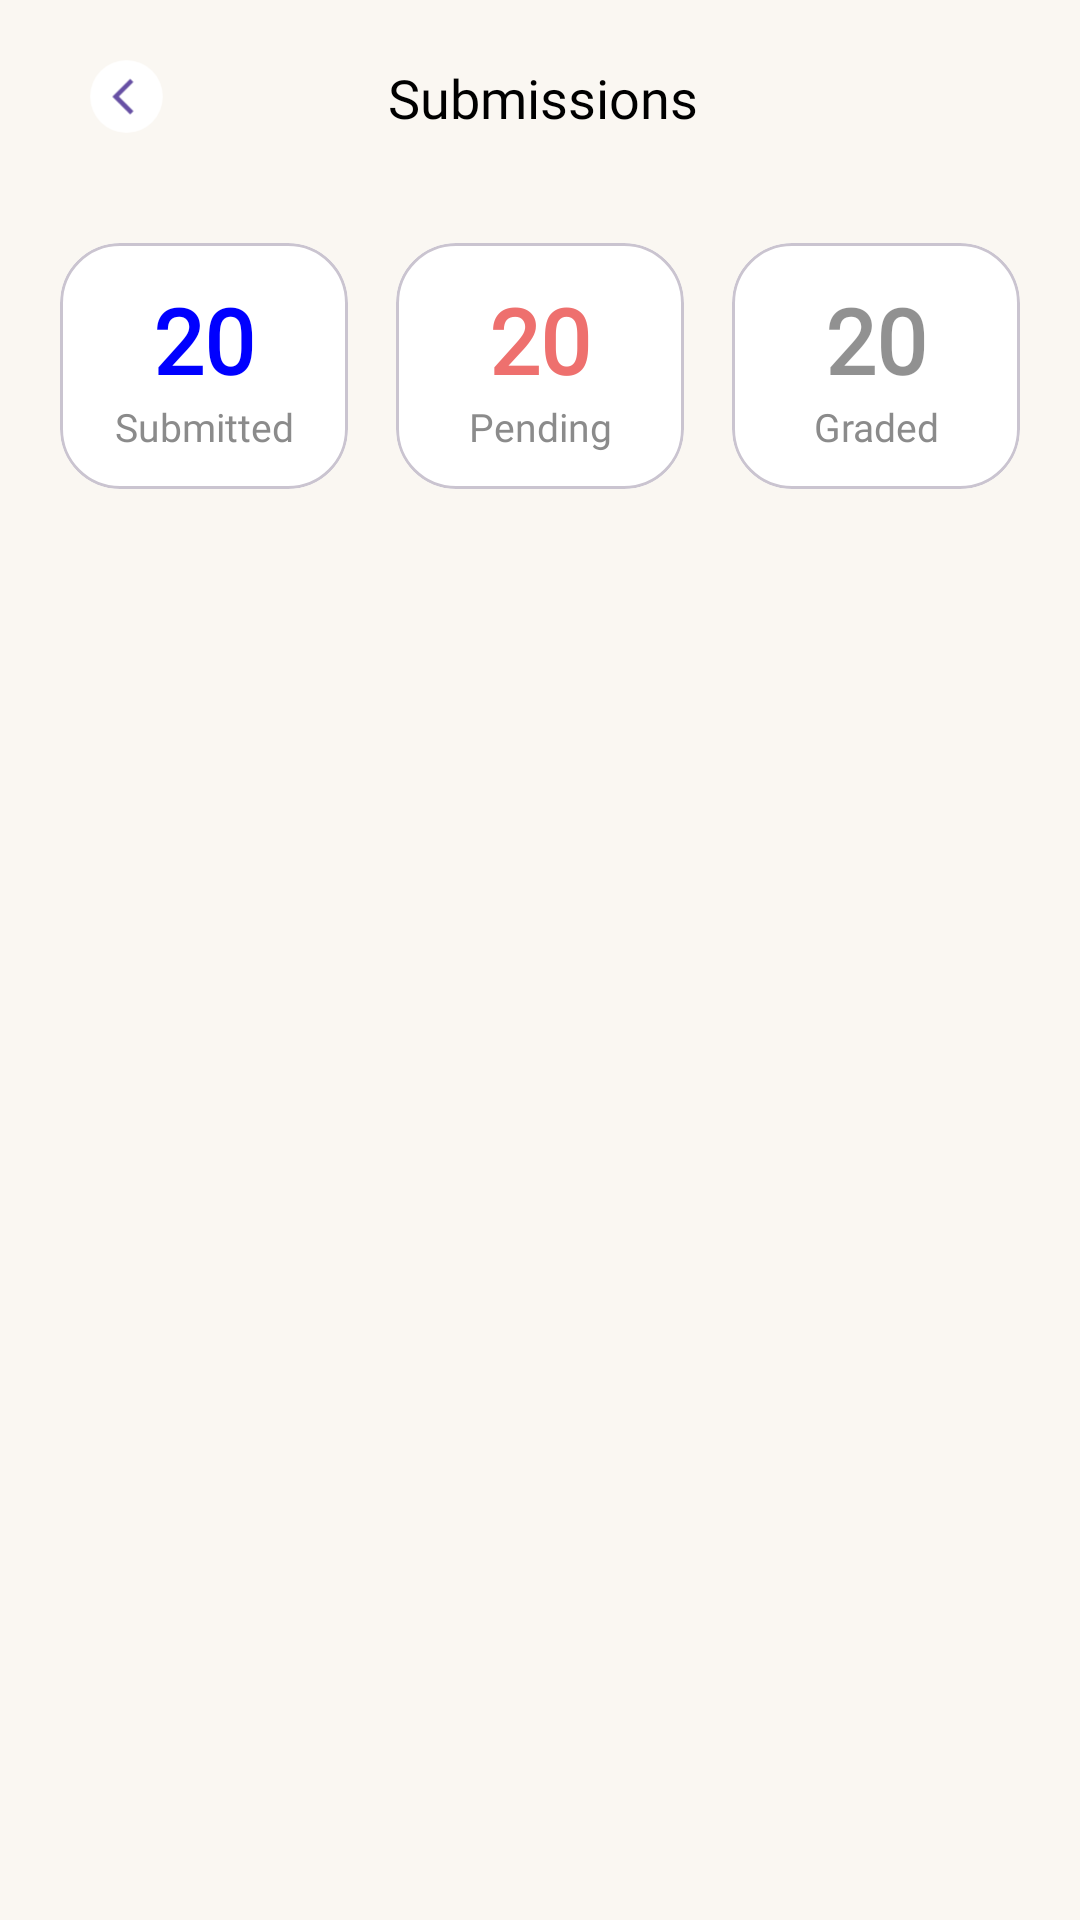

Icon click points for this 1080x1920 phone screenshot, format (x=x, y=y):
back: (x=126, y=96)
